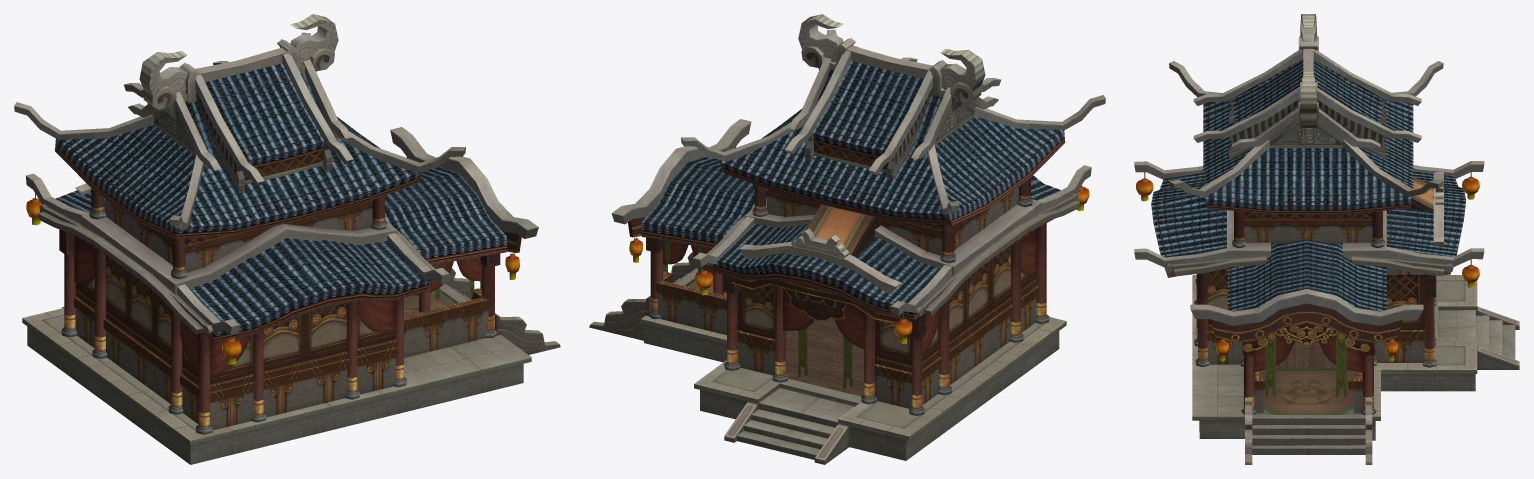
Rendered from cj_luoyang_jianzhu03_53_53_9596out.fbx.
3 views of the same model, side by side, from view 1: azimuth 30°, elevation 25°; view 2: azimuth 150°, elevation 25°; view 3: azimuth 270°, elevation 25° (orthographic). The views are drawn at different scales.
Parts seen in each view (by area): view 1: cj_luoyang_jianzhu03; view 2: cj_luoyang_jianzhu03; view 3: cj_luoyang_jianzhu03.
Part boxes in pixels (x1,y1,x2,y2): cj_luoyang_jianzhu03: (14, 14, 560, 464); cj_luoyang_jianzhu03: (589, 14, 1105, 464); cj_luoyang_jianzhu03: (1134, 14, 1519, 464).
Size of the model in its own units: 11.76 by 9.19 by 10.67.
